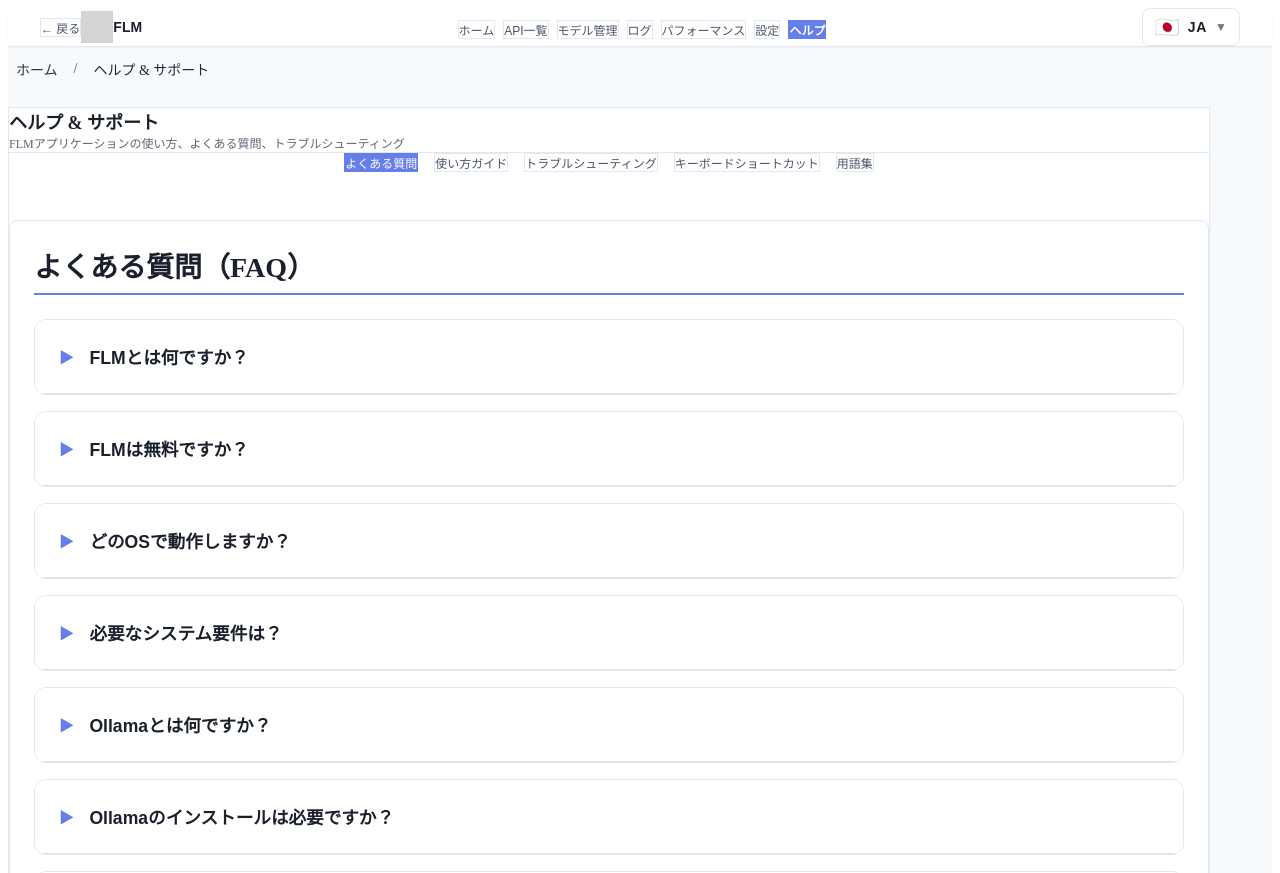
Test case: Help.tsx › セクション切り替え › 使い方ガイドボタンをクリックすると、使い方ガイドセクションを表示する
Click the button "使い方ガイド" at (471, 162), box left=434, top=153, right=508, bottom=172
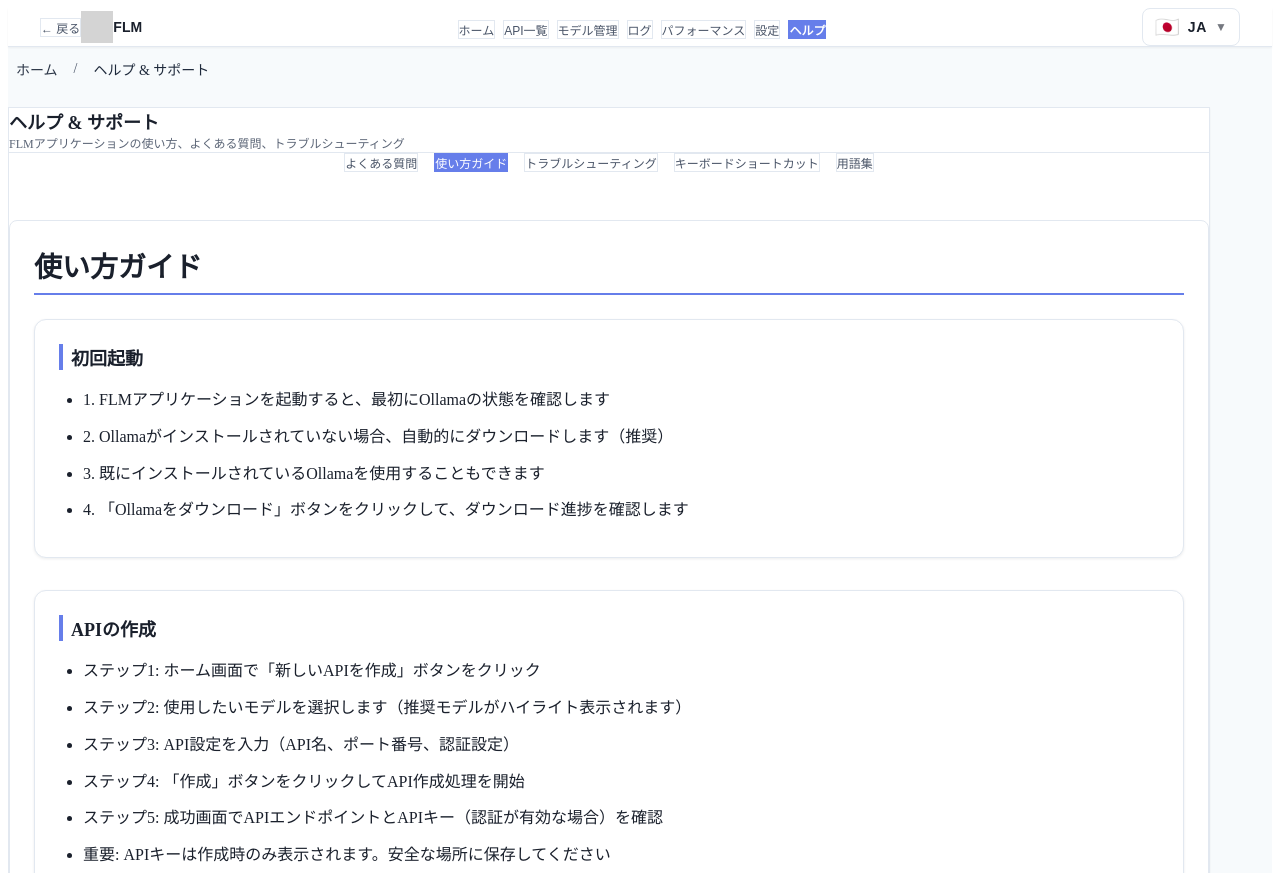
Expected: the heading "使い方ガイド" is shown, left=34, top=245, right=1184, bottom=295
